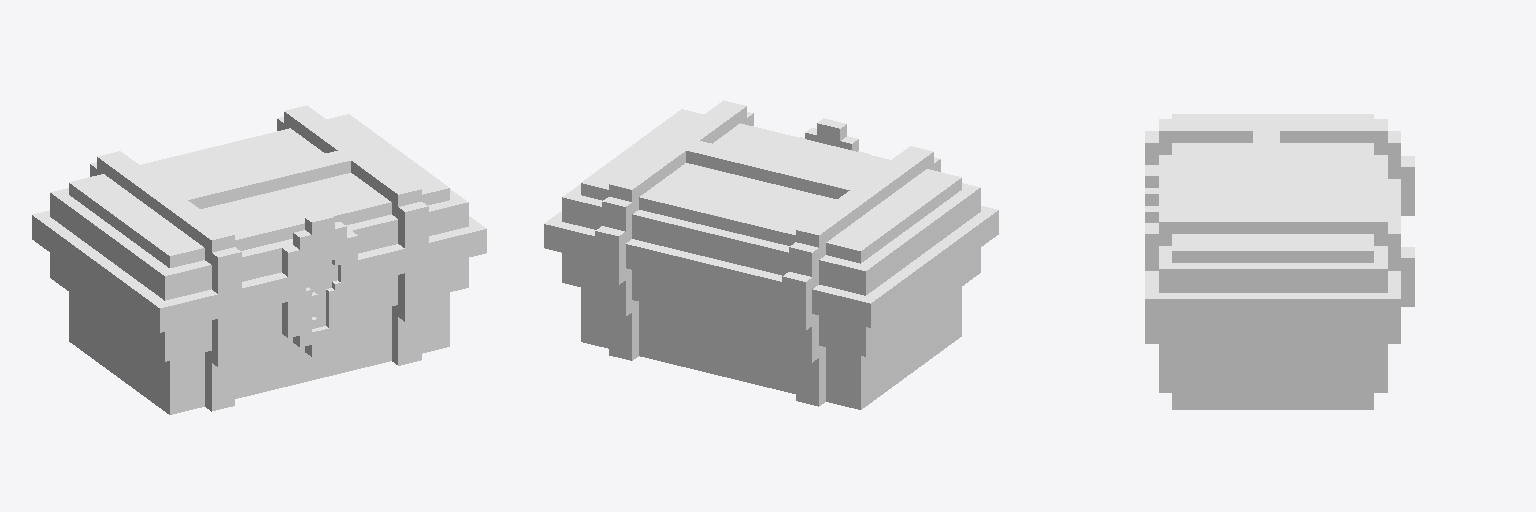
File: WoodenChest.obj
3 renders of one model, left to right at view 1: azimuth 30°, elevation 25°; view 2: azimuth 150°, elevation 25°; view 3: azimuth 270°, elevation 25°, orthographic.
Visible parts, largest first — view 1: WoodenChest; view 2: WoodenChest; view 3: WoodenChest.
Part boxes in pixels (x1,y1,x2,y2): WoodenChest: (32, 105, 486, 414); WoodenChest: (544, 100, 998, 409); WoodenChest: (1145, 114, 1414, 409).
Size of the model in its own units: 56 by 28 by 40.